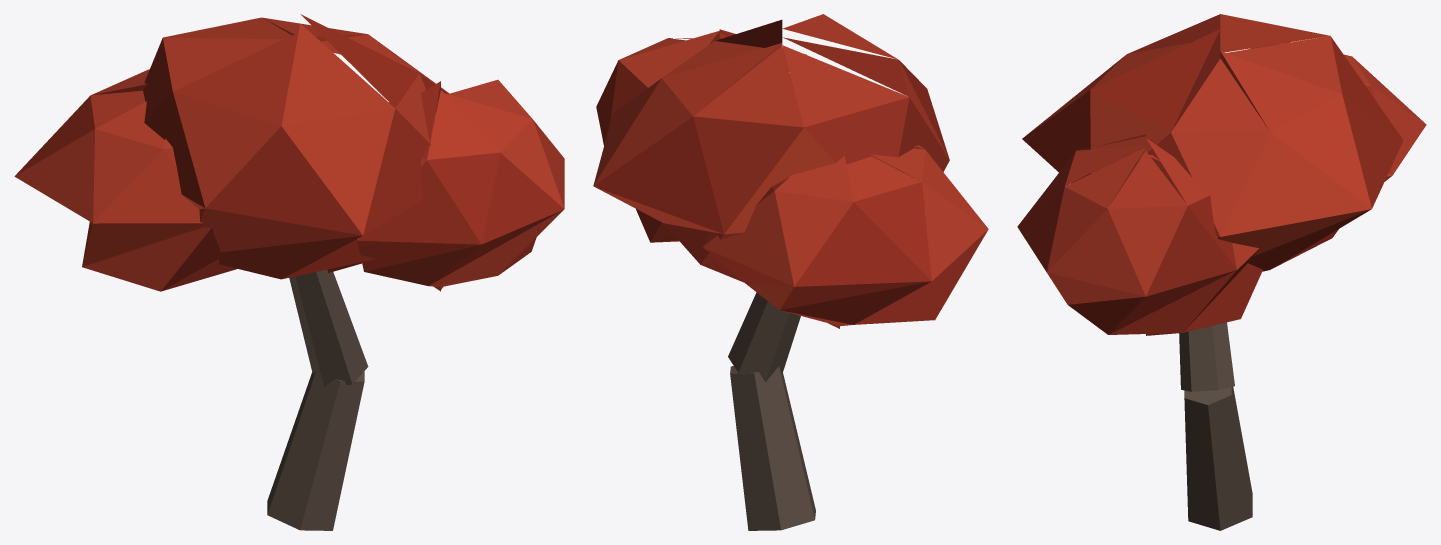
The model's file is autumn_red.glb.
3 views of the same model, side by side, from view 1: azimuth 30°, elevation 25°; view 2: azimuth 150°, elevation 25°; view 3: azimuth 270°, elevation 25° (orthographic). The views are drawn at different scales.
Parts seen in each view (by area): view 1: autumn_red2; view 2: autumn_red2; view 3: autumn_red2.
Boxes of the visible parts, left/top/right/bottom form: autumn_red2: left=14, top=14, right=564, bottom=530; autumn_red2: left=593, top=14, right=988, bottom=530; autumn_red2: left=1017, top=14, right=1426, bottom=530.
Size of the model in its own units: 5.4 by 5.94 by 4.53.
